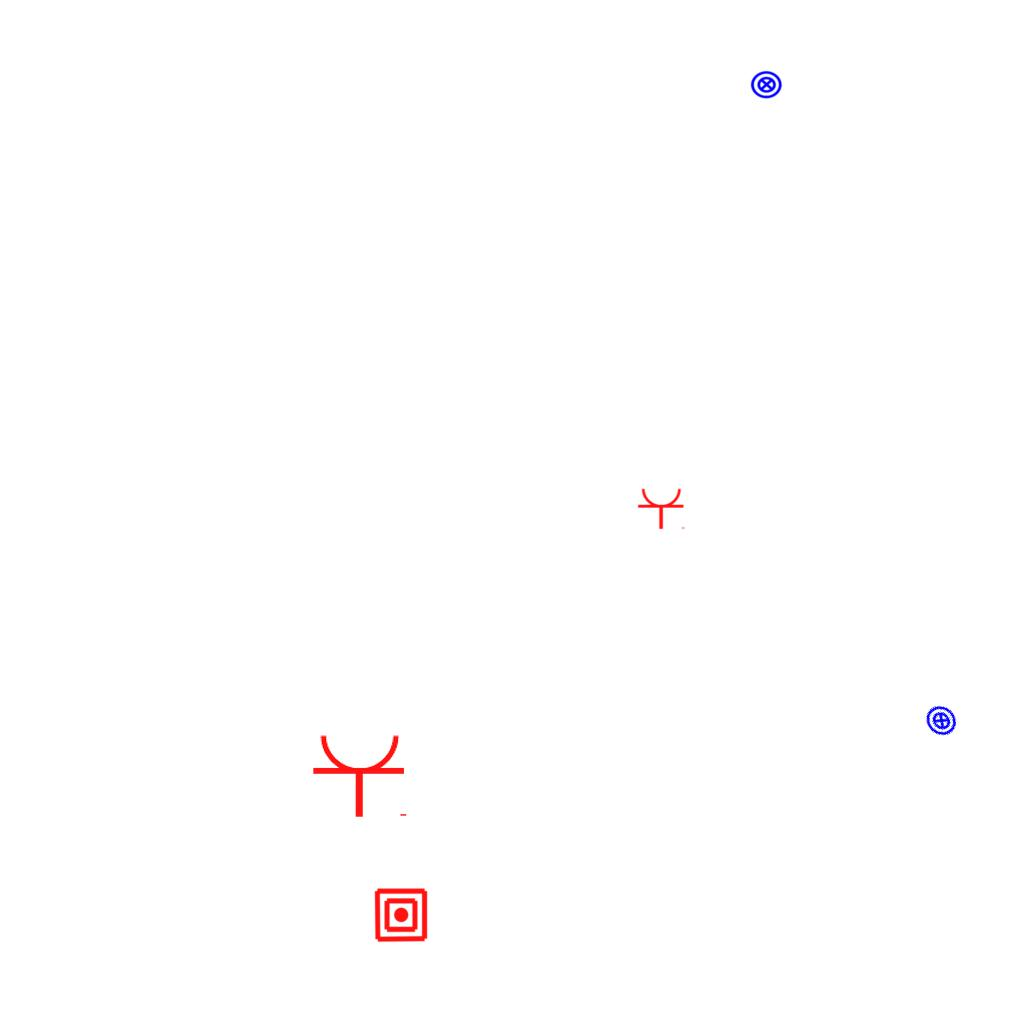NAM-Nichtautomatischer_Melder: (373, 887, 429, 943)
Schukosteckdose_einfach: (311, 732, 411, 819), (637, 487, 687, 530)
Taster_beleuchtet: (918, 697, 965, 744), (750, 68, 783, 101)
